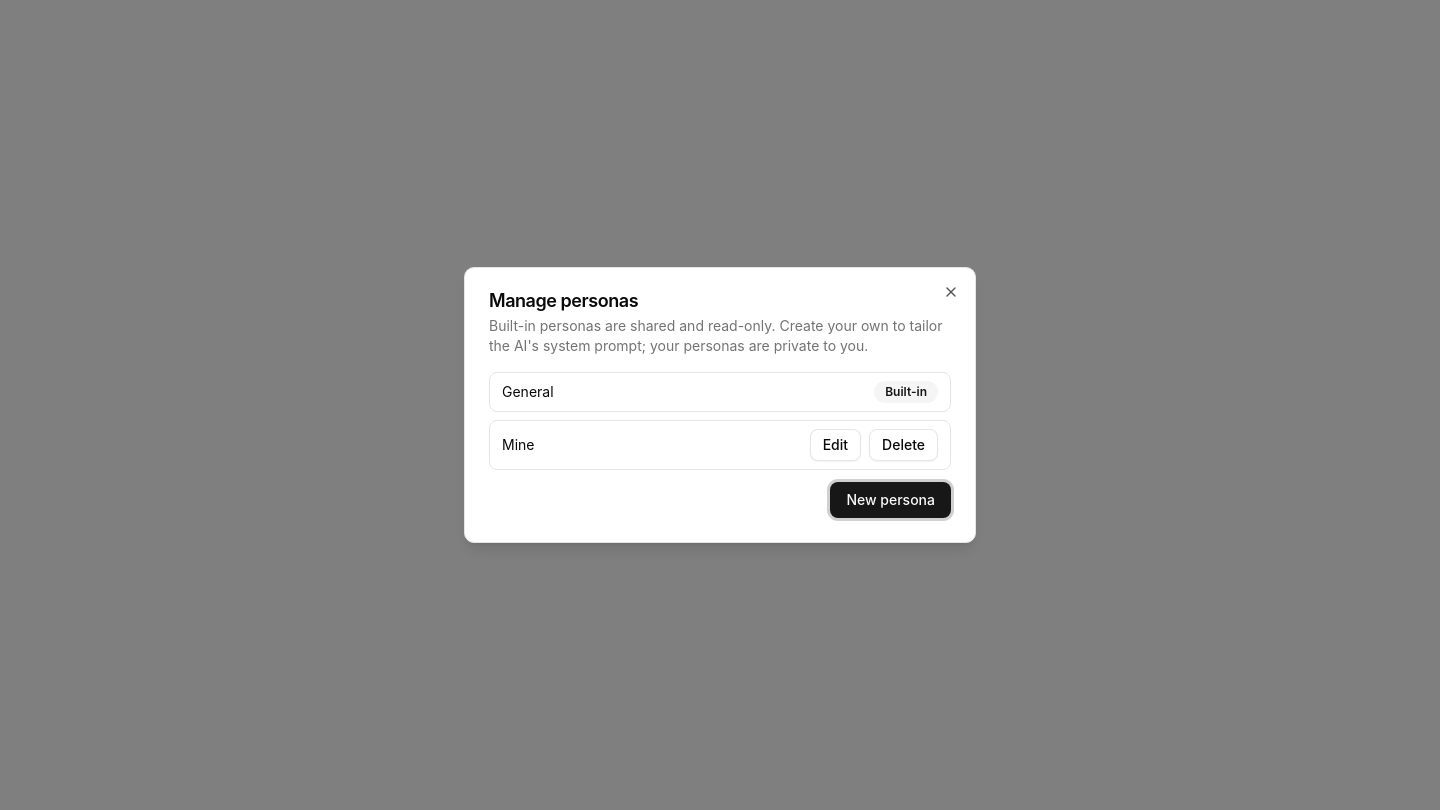
it: ManagePersonasPanel › disables the create submit until name and prompt are both filled
The width and height of the screenshot is (1440, 810).
Expected: the text "General" is shown, [502, 382, 554, 402]
Click the button "New persona" at [891, 500], box [830, 482, 951, 518]
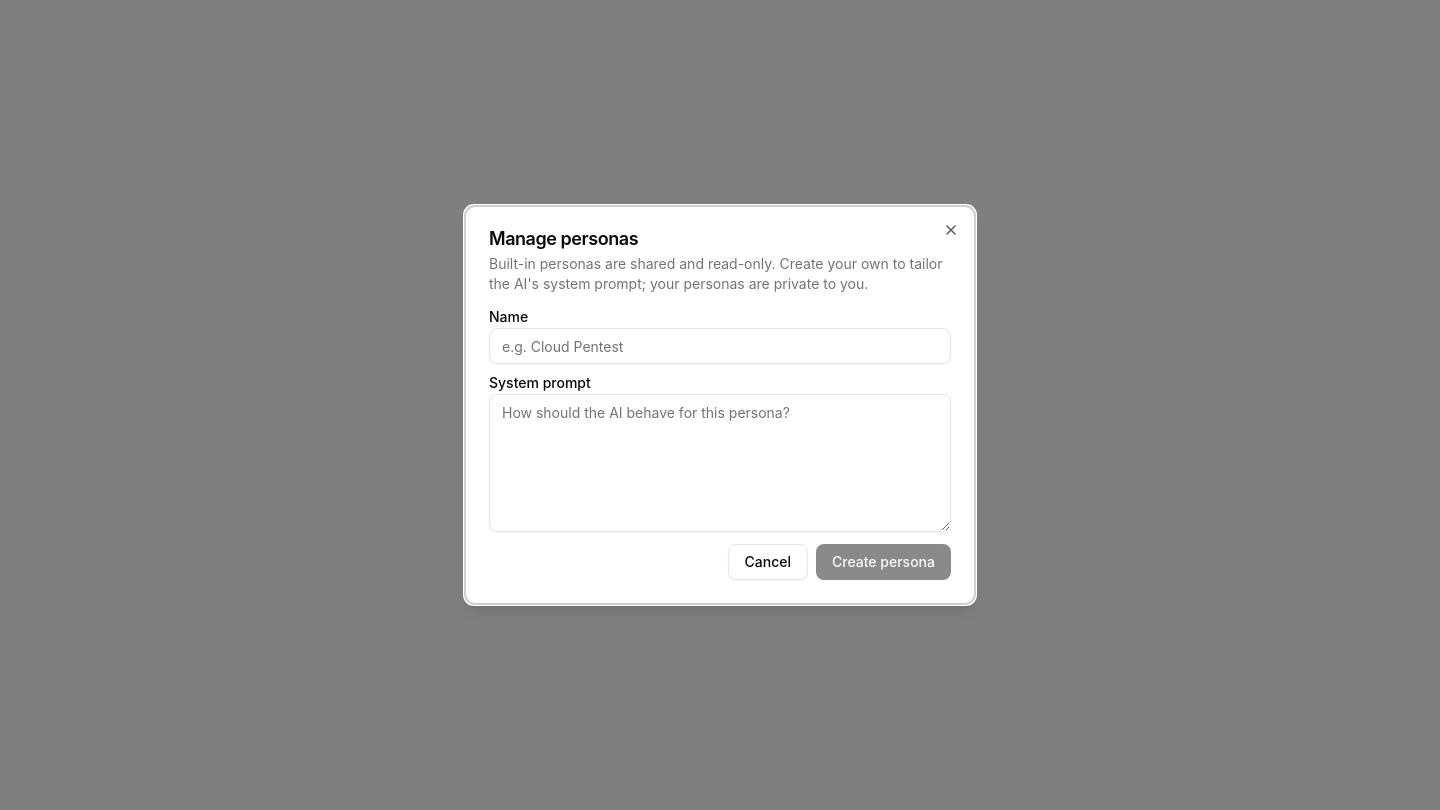
Now the button "Create persona" is disabled, box [816, 544, 951, 580]
Type "Cloud" into the field labelled "Name" at [720, 346], box [489, 328, 951, 364]
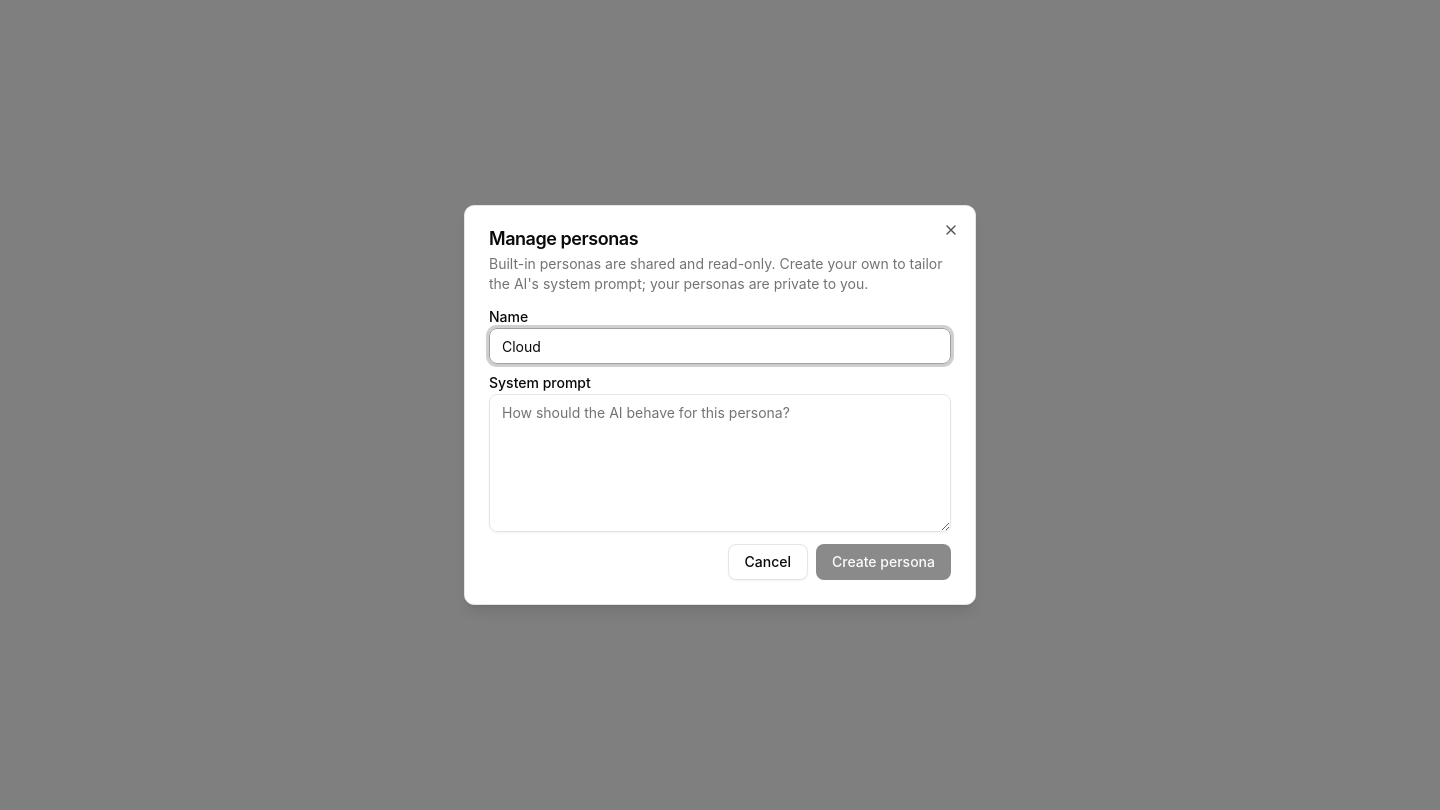
Now the button "Create persona" is disabled, box [816, 544, 951, 580]
Type "be cloudy" into the text box labelled "System prompt" at [720, 463], box [489, 394, 951, 532]
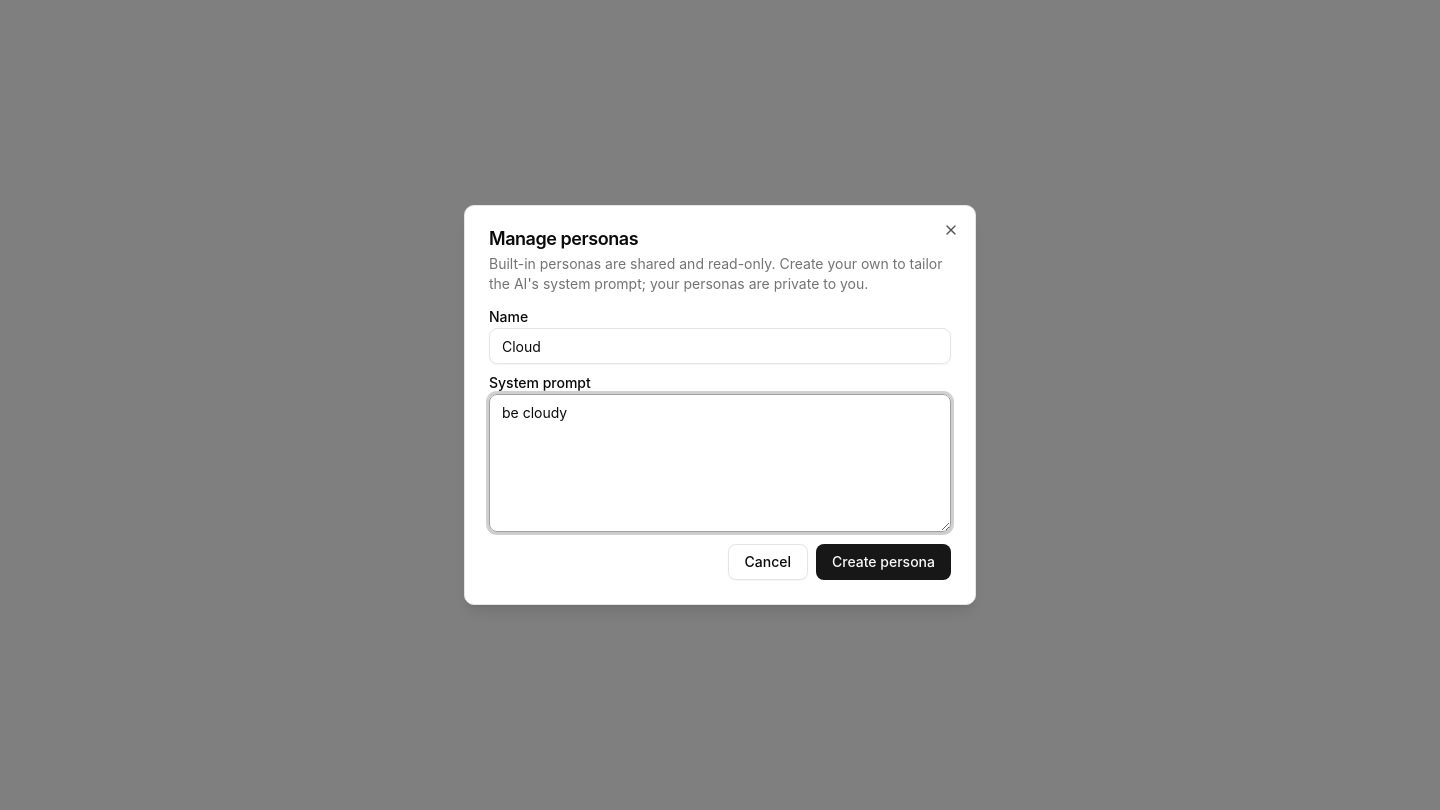
Now the button "Create persona" is enabled, box [816, 544, 951, 580]
